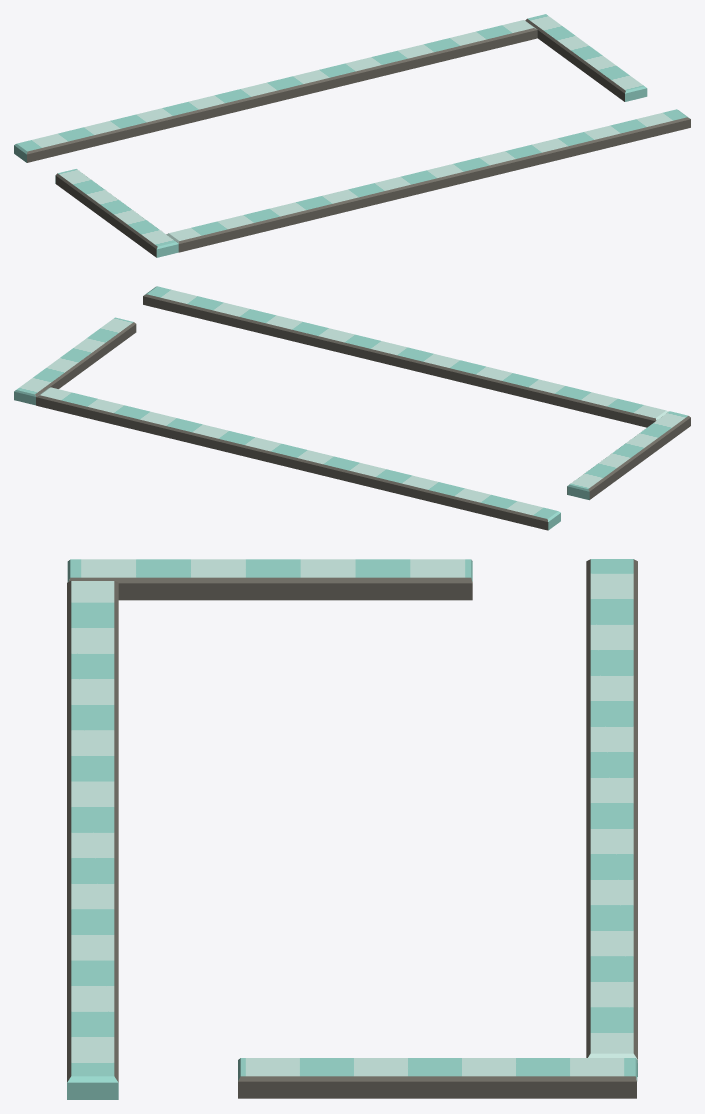
Rendered from Conveyer.FBX.
The picture shows the model from 3 angles, top to bottom: view 1: azimuth 30°, elevation 25°; view 2: azimuth 150°, elevation 25°; view 3: azimuth 270°, elevation 25°; orthographic projection. The views are drawn at different scales.
Visible parts, largest first — view 1: Conveyer, ConveyerFrame; view 2: Conveyer, ConveyerFrame; view 3: Conveyer, ConveyerFrame.
Part boxes in pixels (x1=…): Conveyer: x1=14, y1=14, x2=689, y2=257; ConveyerFrame: x1=27, y1=18, x2=690, y2=257; Conveyer: x1=14, y1=286, x2=687, y2=530; ConveyerFrame: x1=35, y1=294, x2=690, y2=530; Conveyer: x1=67, y1=559, x2=637, y2=1099; ConveyerFrame: x1=67, y1=559, x2=637, y2=1098.
Bounding box in the file's own units: 1071 × 19.91 × 496.
